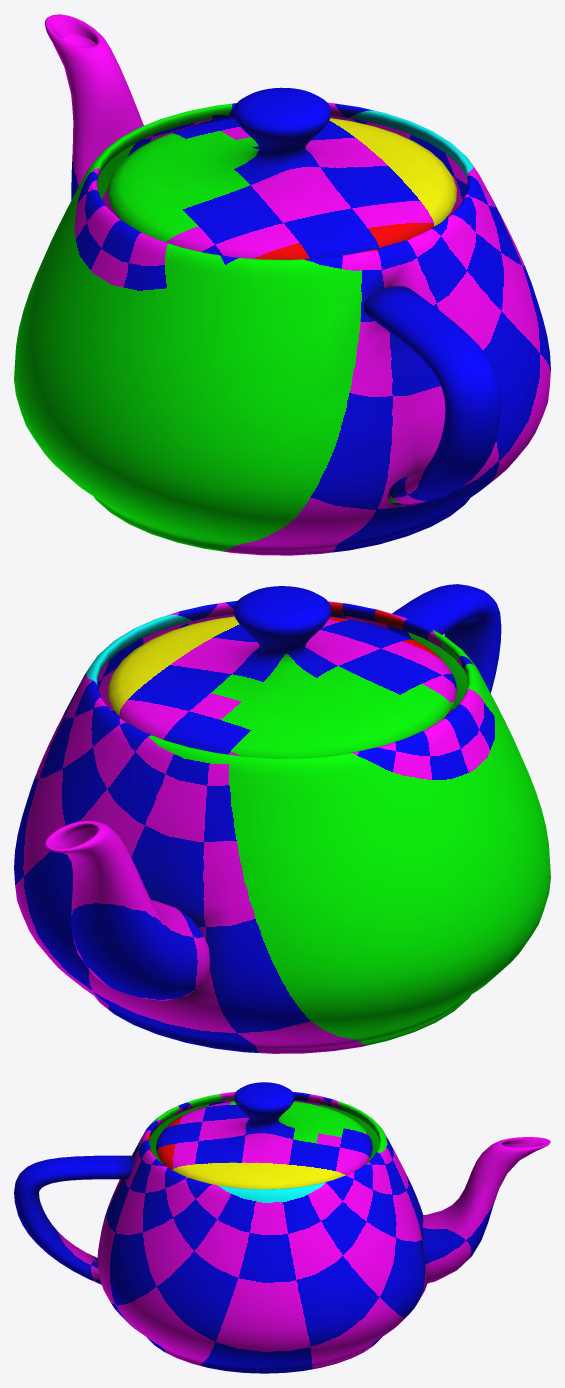
File: teapot_textured.glb
3 renders of one model, top to bottom at view 1: azimuth 30°, elevation 25°; view 2: azimuth 150°, elevation 25°; view 3: azimuth 270°, elevation 25°, orthographic. The views are drawn at different scales.
Parts seen in each view (by area): view 1: teapot; view 2: teapot; view 3: teapot.
Boxes of the visible parts, x1=… form: teapot: x1=14, y1=14, x2=550, y2=555; teapot: x1=14, y1=584, x2=550, y2=1053; teapot: x1=14, y1=1082, x2=550, y2=1373.
Bounding box in the file's own units: 4 × 3.15 × 6.43.
Materials: 1 (1 with a texture image).
